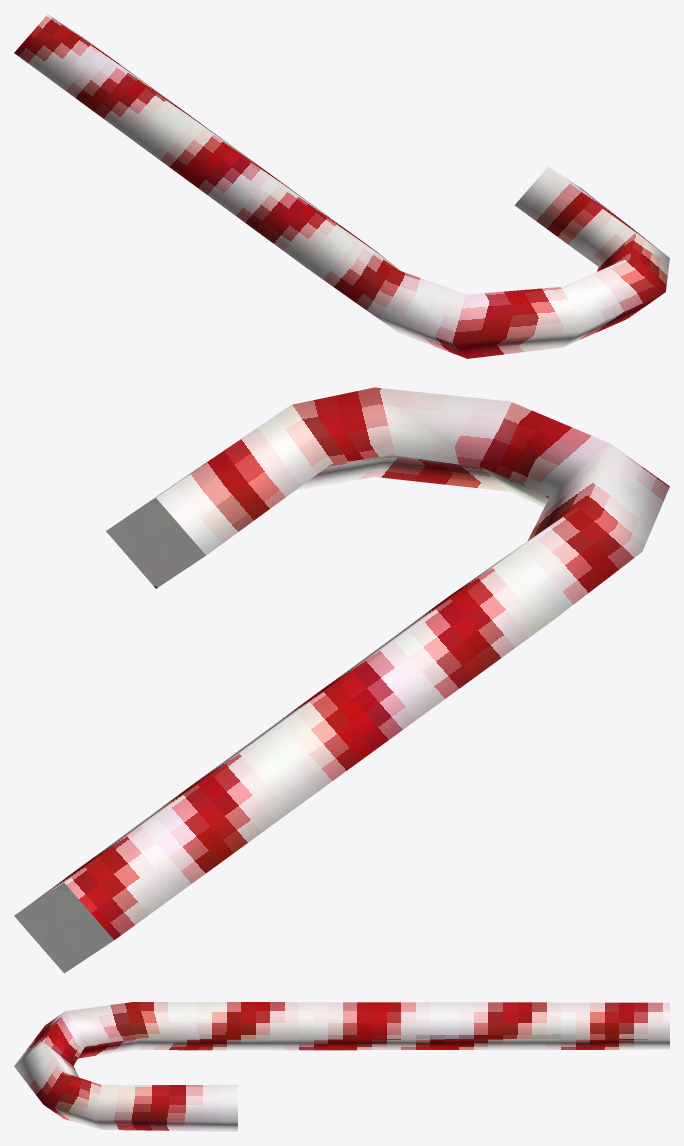
Rendered from xmasecandy.glb.
The picture shows the model from 3 angles, top to bottom: view 1: azimuth 30°, elevation 25°; view 2: azimuth 150°, elevation 25°; view 3: azimuth 270°, elevation 25°; orthographic projection. The views are drawn at different scales.
Parts seen in each view (by area): view 1: model_xmasecandy; view 2: model_xmasecandy; view 3: model_xmasecandy.
Boxes of the visible parts, x1=… form: model_xmasecandy: x1=14, y1=14, x2=669, y2=358; model_xmasecandy: x1=14, y1=387, x2=669, y2=973; model_xmasecandy: x1=14, y1=1002, x2=669, y2=1131.
Size of the model in its own units: 0.2376 by 0.0508 by 0.6109.
Materials: 1 (1 with a texture image).
